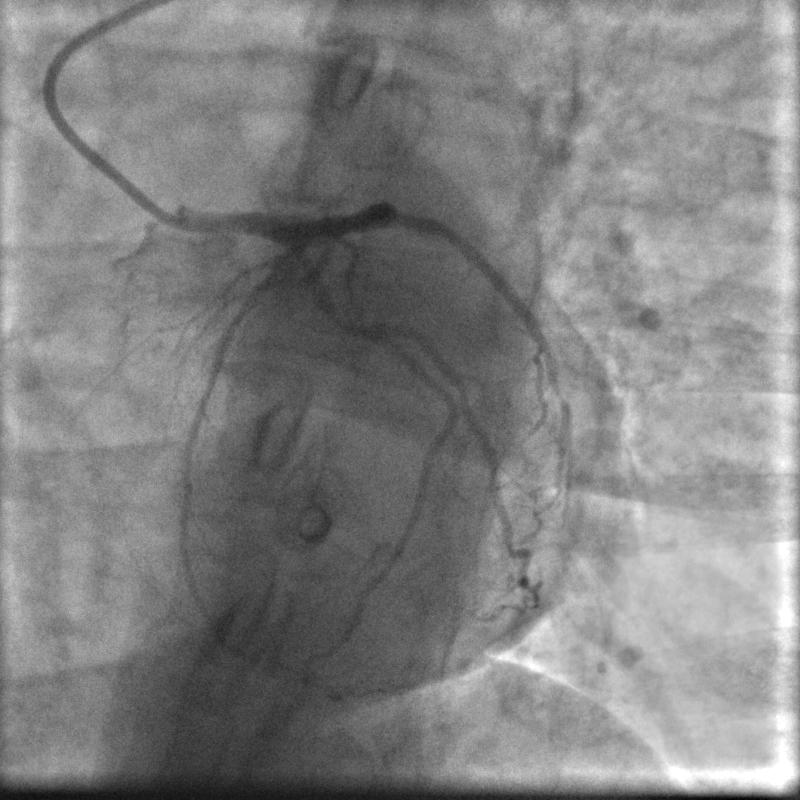Stenosis: (328, 297, 370, 339)
